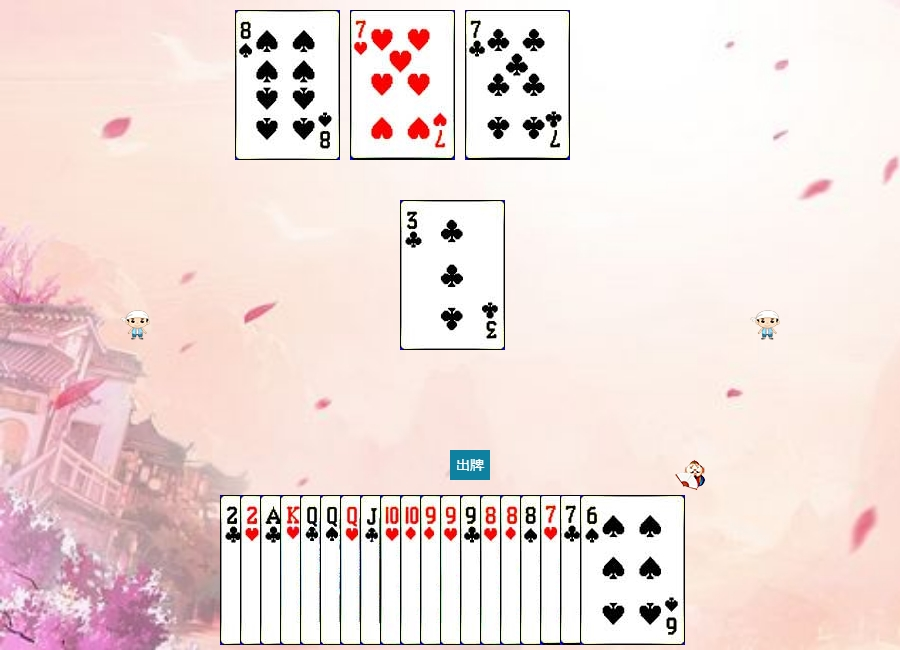10~1: (400, 495, 505, 645)
10~3: (380, 495, 485, 645)
11~2: (360, 495, 465, 645)
12~2: (300, 495, 405, 645)
12~3: (340, 495, 445, 645)
12~4: (320, 495, 425, 645)
13~3: (280, 495, 385, 645)
14~2: (260, 495, 365, 645)
15~2: (220, 495, 325, 645)
15~3: (240, 495, 345, 645)
3~2: (400, 200, 505, 350)
6~4: (580, 495, 685, 645)
7~2: (465, 10, 570, 160), (560, 495, 665, 645)
7~3: (350, 10, 455, 160), (540, 495, 645, 645)
8~1: (500, 495, 605, 645)
8~3: (480, 495, 585, 645)
8~4: (235, 10, 340, 160), (520, 495, 625, 645)
9~1: (420, 495, 525, 645)
9~2: (460, 495, 565, 645)
9~3: (440, 495, 545, 645)
